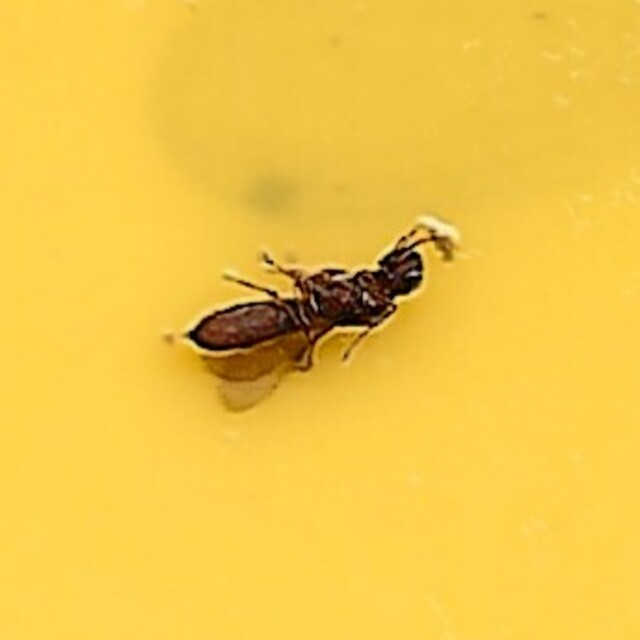Hymenoptera: (186, 219, 454, 421)
